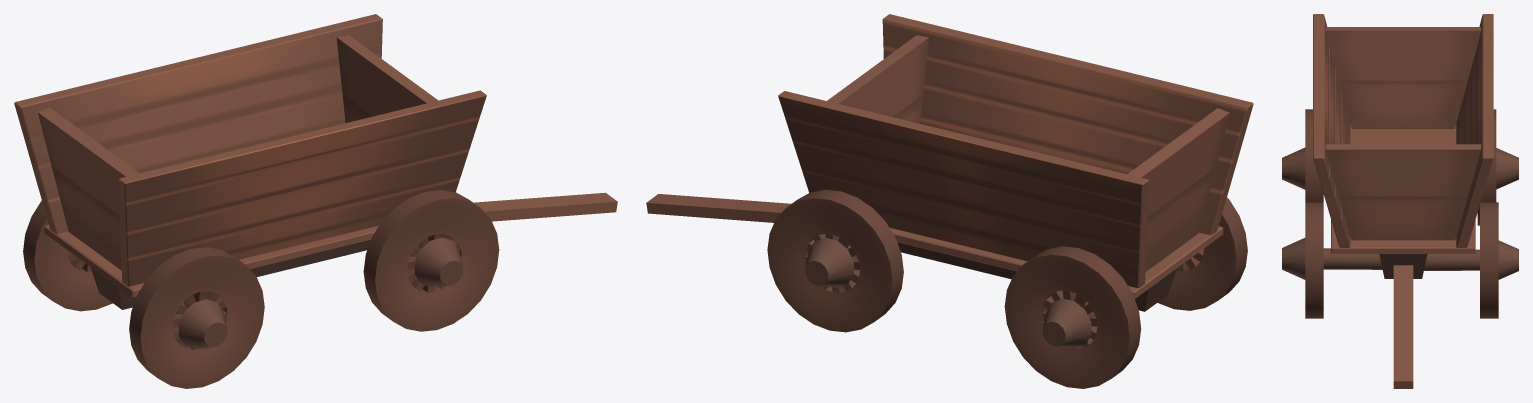
Rendered from Carriage.fbx.
3 views of the same model, side by side, from view 1: azimuth 30°, elevation 25°; view 2: azimuth 150°, elevation 25°; view 3: azimuth 270°, elevation 25° (orthographic). The views are drawn at different scales.
Visible parts, largest first — view 1: Plane.001, Circle.002, Circle, Plane, Plane.004, Circle.003, Plane.002, Plane.003, Cube.002, Cube, Cube.001; view 2: Plane.001, Circle.004, Circle.003, Plane, Plane.004, Circle, Plane.002, Plane.003, Cube.003, Cube.004, Cube.001; view 3: Plane, Plane.004, Plane.001, Plane.002, Plane.003, Circle.002, Circle.004, Cube.002, Cube.004, Circle, Cube.001, Cube (+2 smaller).
Boxes of the visible parts, x1,y1,x2,y2 form: Plane.001: [14, 14, 486, 286]; Circle.002: [363, 190, 499, 331]; Circle: [129, 247, 264, 388]; Plane: [38, 107, 139, 270]; Plane.004: [336, 35, 438, 122]; Circle.003: [23, 200, 112, 311]; Plane.002: [44, 225, 378, 297]; Plane.003: [474, 192, 617, 221]; Cube.002: [410, 237, 463, 287]; Cube: [176, 299, 227, 348]; Cube.001: [90, 240, 370, 309]; Plane.001: [778, 14, 1253, 288]; Circle.004: [767, 189, 903, 332]; Circle.003: [1004, 246, 1141, 388]; Plane: [1127, 108, 1229, 271]; Plane.004: [827, 35, 928, 123]; Circle: [1157, 197, 1247, 310]; Plane.002: [890, 226, 1223, 298]; Plane.003: [646, 194, 791, 222]; Cube.003: [1042, 298, 1093, 348]; Cube.004: [805, 237, 856, 287]; Cube.001: [897, 242, 1176, 311]; Plane: [1325, 27, 1481, 128]; Plane.004: [1325, 144, 1481, 240]; Plane.001: [1313, 14, 1493, 247]; Plane.002: [1331, 124, 1475, 253]; Plane.003: [1393, 265, 1413, 388]; Circle.002: [1305, 202, 1323, 318]; Circle.004: [1480, 202, 1498, 318]; Cube.002: [1282, 238, 1382, 279]; Cube.004: [1424, 240, 1518, 279]; Circle: [1305, 109, 1323, 202]; Cube.001: [1379, 254, 1427, 278]; Cube: [1282, 147, 1305, 189].
Bounding box in the file's own units: 576 × 222 × 268.
